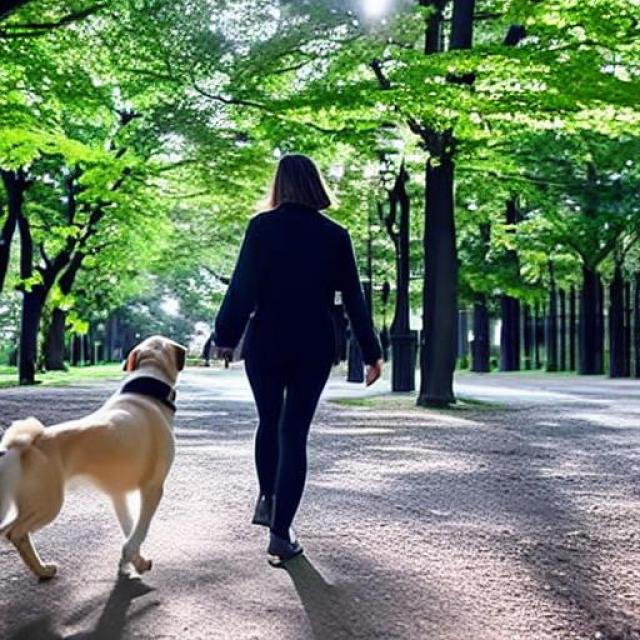Unleashed_Dog: (0, 318, 340, 580)
